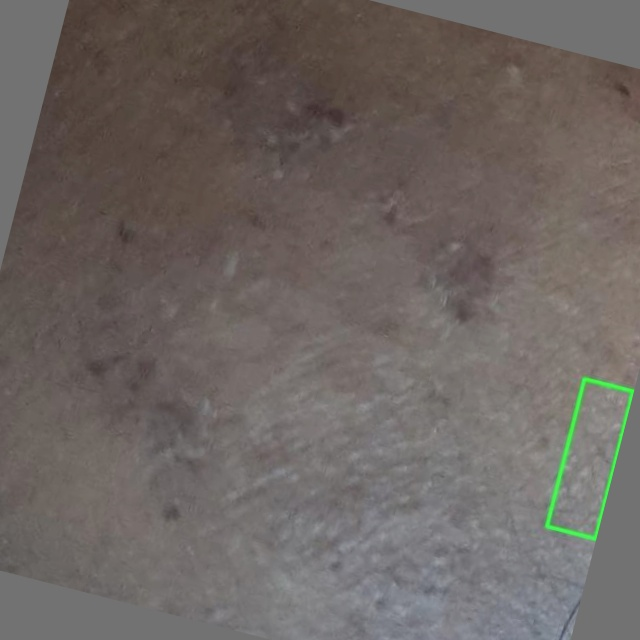Tinea Corporis: (547, 377, 633, 537)
